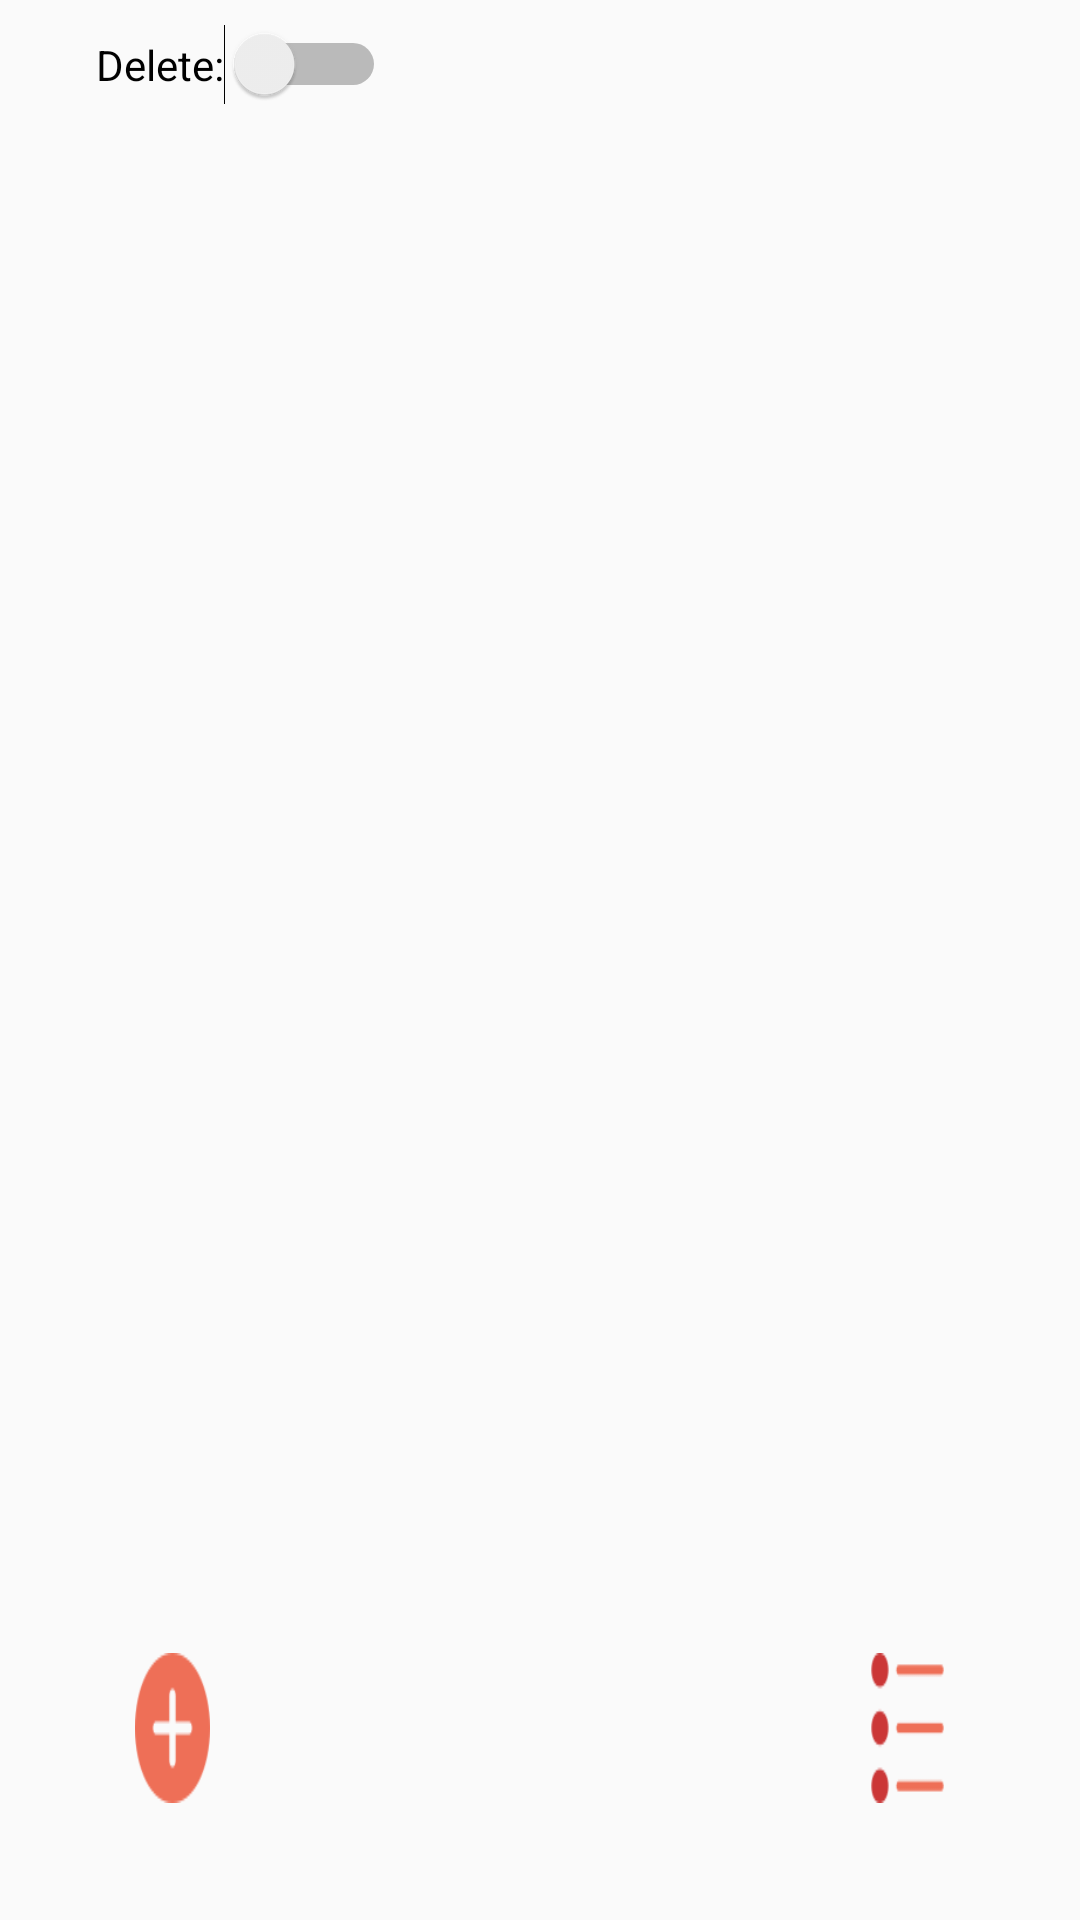

Icon click points for this 1080w x 1920h phone screenshot, format (x=x, y=y):
list: (x=907, y=1728)
plus: (x=172, y=1728)
